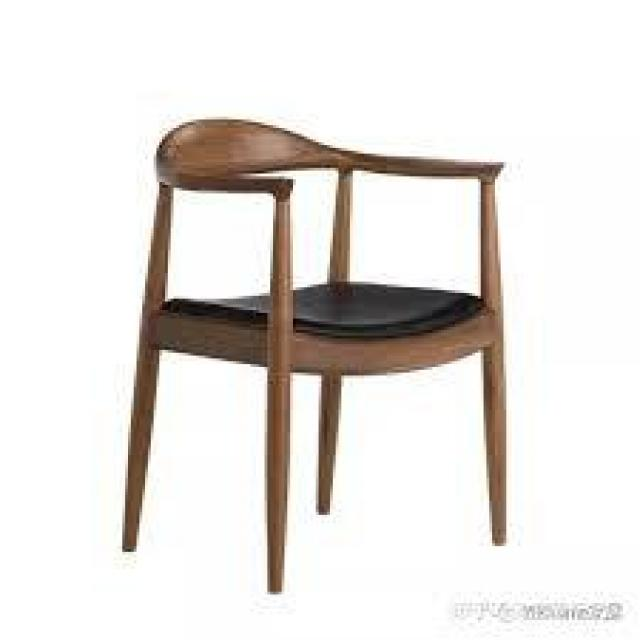chair: (108, 57, 535, 586)
